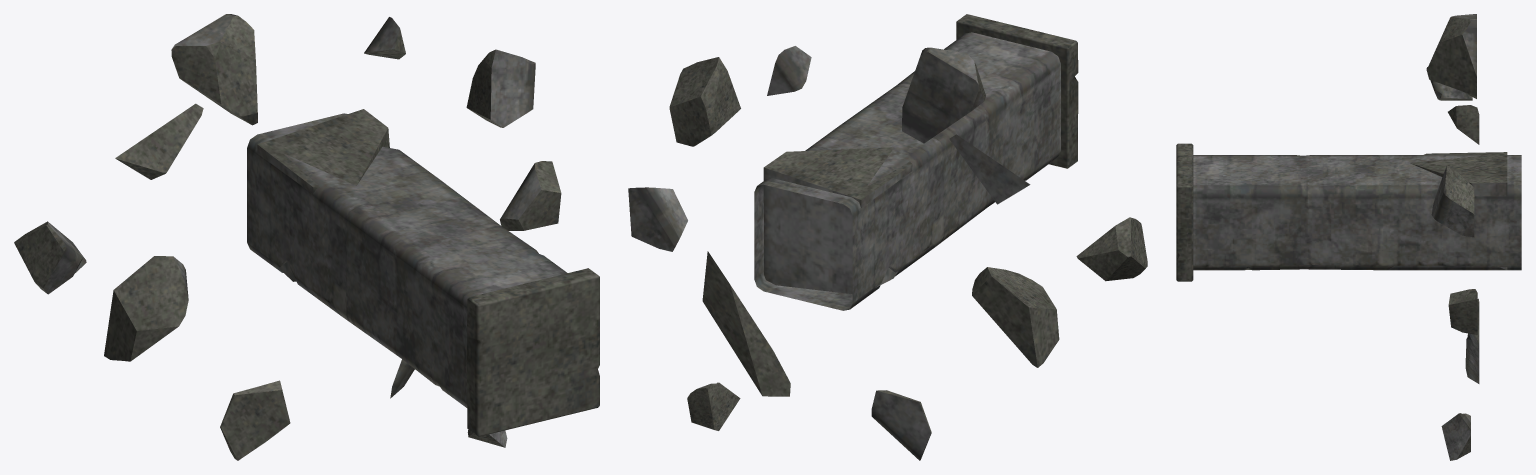
Rendered from hd_env_101_RockWallEnd.glb.
3 views of the same model, side by side, from view 1: azimuth 30°, elevation 25°; view 2: azimuth 150°, elevation 25°; view 3: azimuth 270°, elevation 25° (orthographic). The views are drawn at different scales.
Visible parts, largest first — view 1: set_0_group_1, set_0_group_0; view 2: set_0_group_0, set_0_group_1; view 3: set_0_group_1, set_0_group_0.
Boxes of the visible parts, left/top/right/bottom form: set_0_group_1: left=247, top=113, right=599, bottom=436; set_0_group_0: left=14, top=14, right=561, bottom=460; set_0_group_0: left=628, top=46, right=1147, bottom=460; set_0_group_1: left=754, top=14, right=1078, bottom=310; set_0_group_1: left=1176, top=143, right=1521, bottom=281; set_0_group_0: left=1410, top=14, right=1507, bottom=460.
Size of the model in its own units: 3.28 by 2.8 by 2.5.
2 materials, 2 textured.
